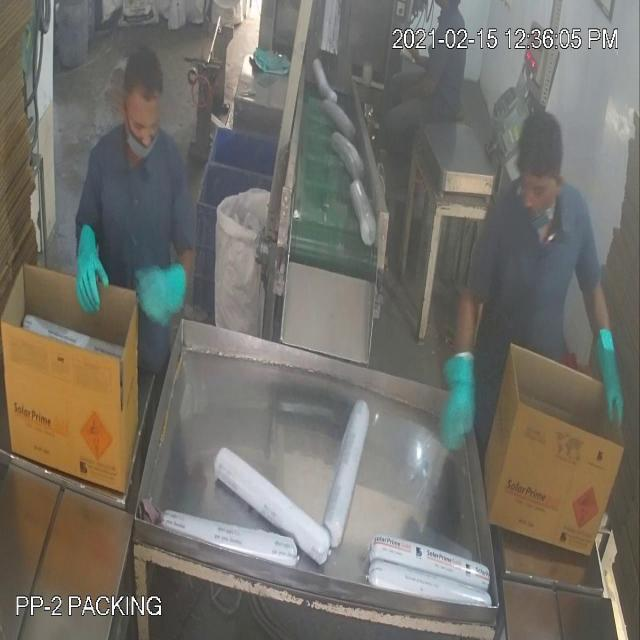Gloves: (44, 76, 607, 400)
